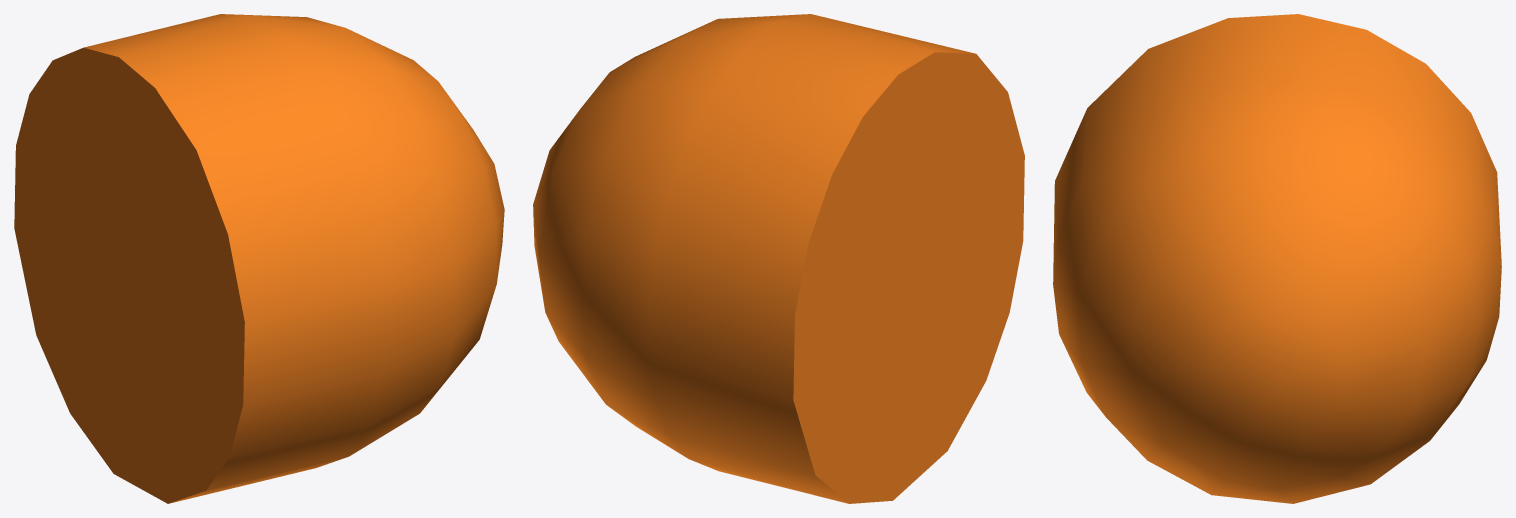
Rendered from bala_draconico.obj.
The picture shows the model from 3 angles, left to right: view 1: azimuth 30°, elevation 25°; view 2: azimuth 150°, elevation 25°; view 3: azimuth 270°, elevation 25°; orthographic projection. The views are drawn at different scales.
Bounding box in the file's own units: 0.0392 × 0.0447 × 0.0448.
